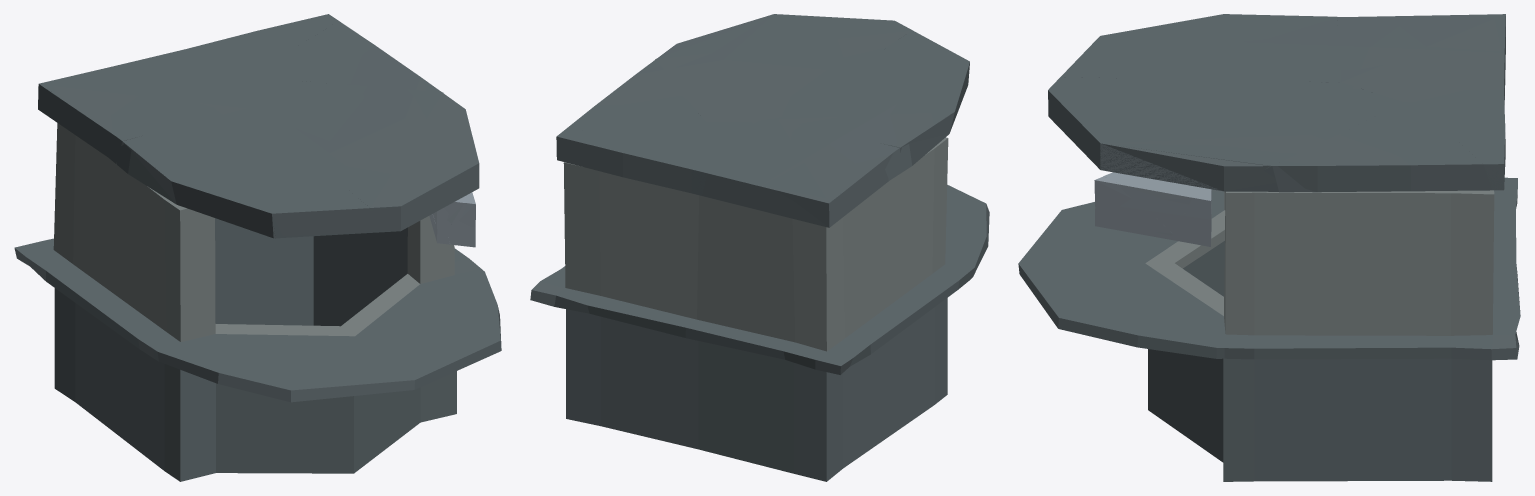
The model's file is Buncer.fbx.
3 views of the same model, side by side, from view 1: azimuth 30°, elevation 25°; view 2: azimuth 150°, elevation 25°; view 3: azimuth 270°, elevation 25° (orthographic). The views are drawn at different scales.
Visible parts, largest first — view 1: Foundation, Roof, Roof_cell.002, Roof_cell.001, Roof_cell.003, Roof_cell.005, Roof_cell.004, ProtectiveBrick; view 2: Foundation, Roof, Roof_cell.001, Roof_cell.002, Roof_cell.003, Roof_cell.004, Roof_cell.005; view 3: Foundation, Roof, Roof_cell.002, Roof_cell.003, Roof_cell.001, ProtectiveBrick, Roof_cell.005, Roof_cell.004, ProtectiveBrick_cell.002, ProtectiveBrick_cell.
Part boxes in pixels (bbox=[...]): Foundation: bbox=[14, 123, 501, 481]; Roof: bbox=[38, 21, 479, 238]; Roof_cell.002: bbox=[251, 79, 478, 232]; Roof_cell.001: bbox=[38, 60, 256, 156]; Roof_cell.003: bbox=[116, 108, 373, 238]; Roof_cell.005: bbox=[252, 22, 441, 92]; Roof_cell.004: bbox=[257, 14, 338, 50]; ProtectiveBrick: bbox=[429, 192, 475, 247]; Foundation: bbox=[530, 137, 989, 481]; Roof: bbox=[556, 14, 969, 227]; Roof_cell.001: bbox=[706, 119, 898, 227]; Roof_cell.002: bbox=[655, 14, 912, 123]; Roof_cell.003: bbox=[778, 61, 969, 152]; Roof_cell.004: bbox=[556, 129, 707, 195]; Roof_cell.005: bbox=[569, 59, 708, 134]; Foundation: bbox=[1018, 177, 1520, 481]; Roof: bbox=[1048, 14, 1505, 192]; Roof_cell.002: bbox=[1048, 77, 1386, 191]; Roof_cell.003: bbox=[1101, 14, 1341, 82]; Roof_cell.001: bbox=[1340, 14, 1505, 102]; ProtectiveBrick: bbox=[1095, 178, 1211, 245]; Roof_cell.005: bbox=[1272, 102, 1491, 192]; Roof_cell.004: bbox=[1445, 88, 1505, 190]; ProtectiveBrick_cell.002: bbox=[1094, 176, 1172, 235]; ProtectiveBrick_cell: bbox=[1103, 172, 1206, 204].
Size of the model in its own units: 644 by 562 by 796.
